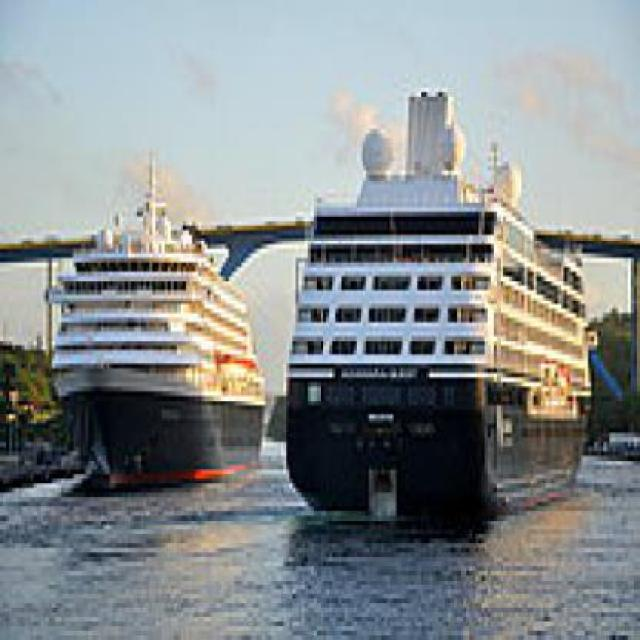cruise: (266, 79, 611, 559), (40, 134, 273, 499)
